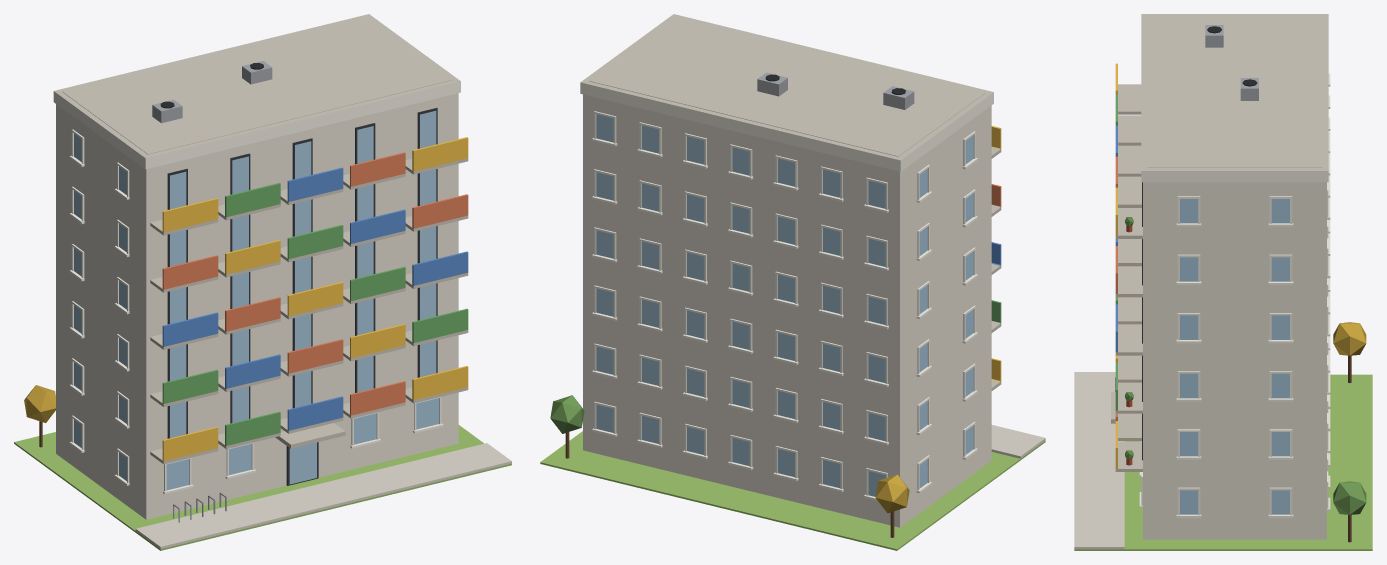
File: Konut_balkonlu_blok_2_Hafif.fbx
3 renders of one model, left to right at view 1: azimuth 30°, elevation 25°; view 2: azimuth 150°, elevation 25°; view 3: azimuth 270°, elevation 25°, orthographic.
Parts seen in each view (by area): view 1: Konut_balkonlu_blok_2_Hafif; view 2: Konut_balkonlu_blok_2_Hafif; view 3: Konut_balkonlu_blok_2_Hafif.
Part boxes in pixels (bbox=[...]): Konut_balkonlu_blok_2_Hafif: bbox=[14, 14, 511, 550]; Konut_balkonlu_blok_2_Hafif: bbox=[540, 14, 1045, 550]; Konut_balkonlu_blok_2_Hafif: bbox=[1074, 14, 1372, 550].
Bounding box in the file's own units: 18 × 18.48 × 13.
